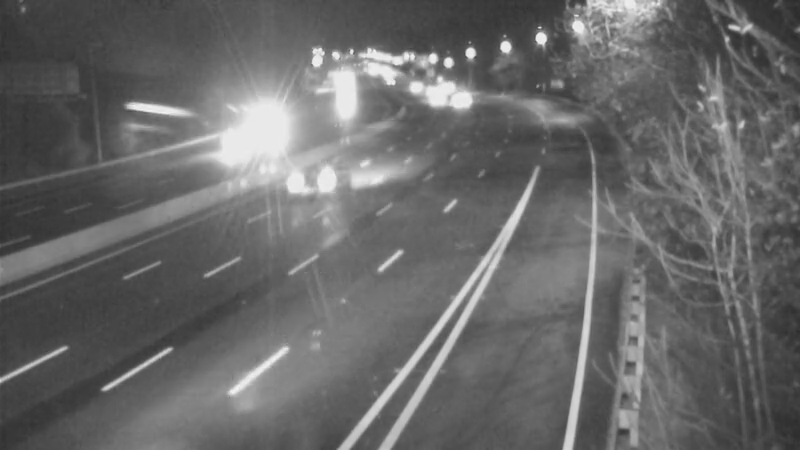vehicle: (271, 144, 351, 224), (384, 60, 434, 110), (409, 75, 459, 125), (437, 77, 487, 127), (207, 123, 257, 173)
